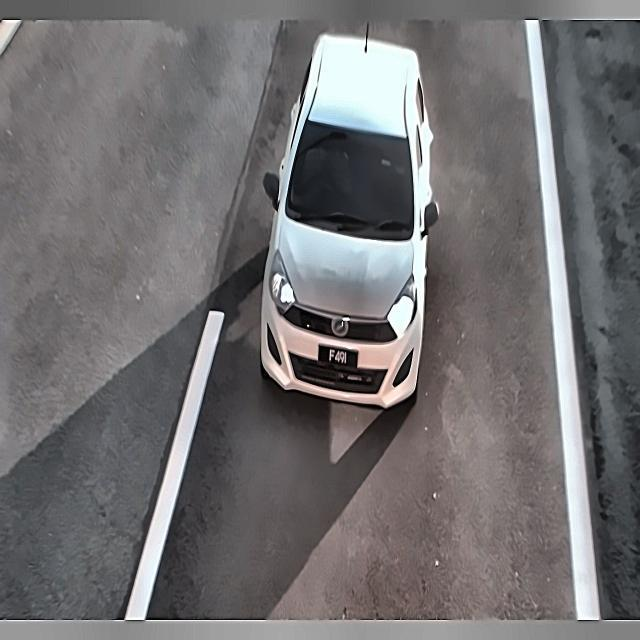car: (314, 342, 363, 372)
